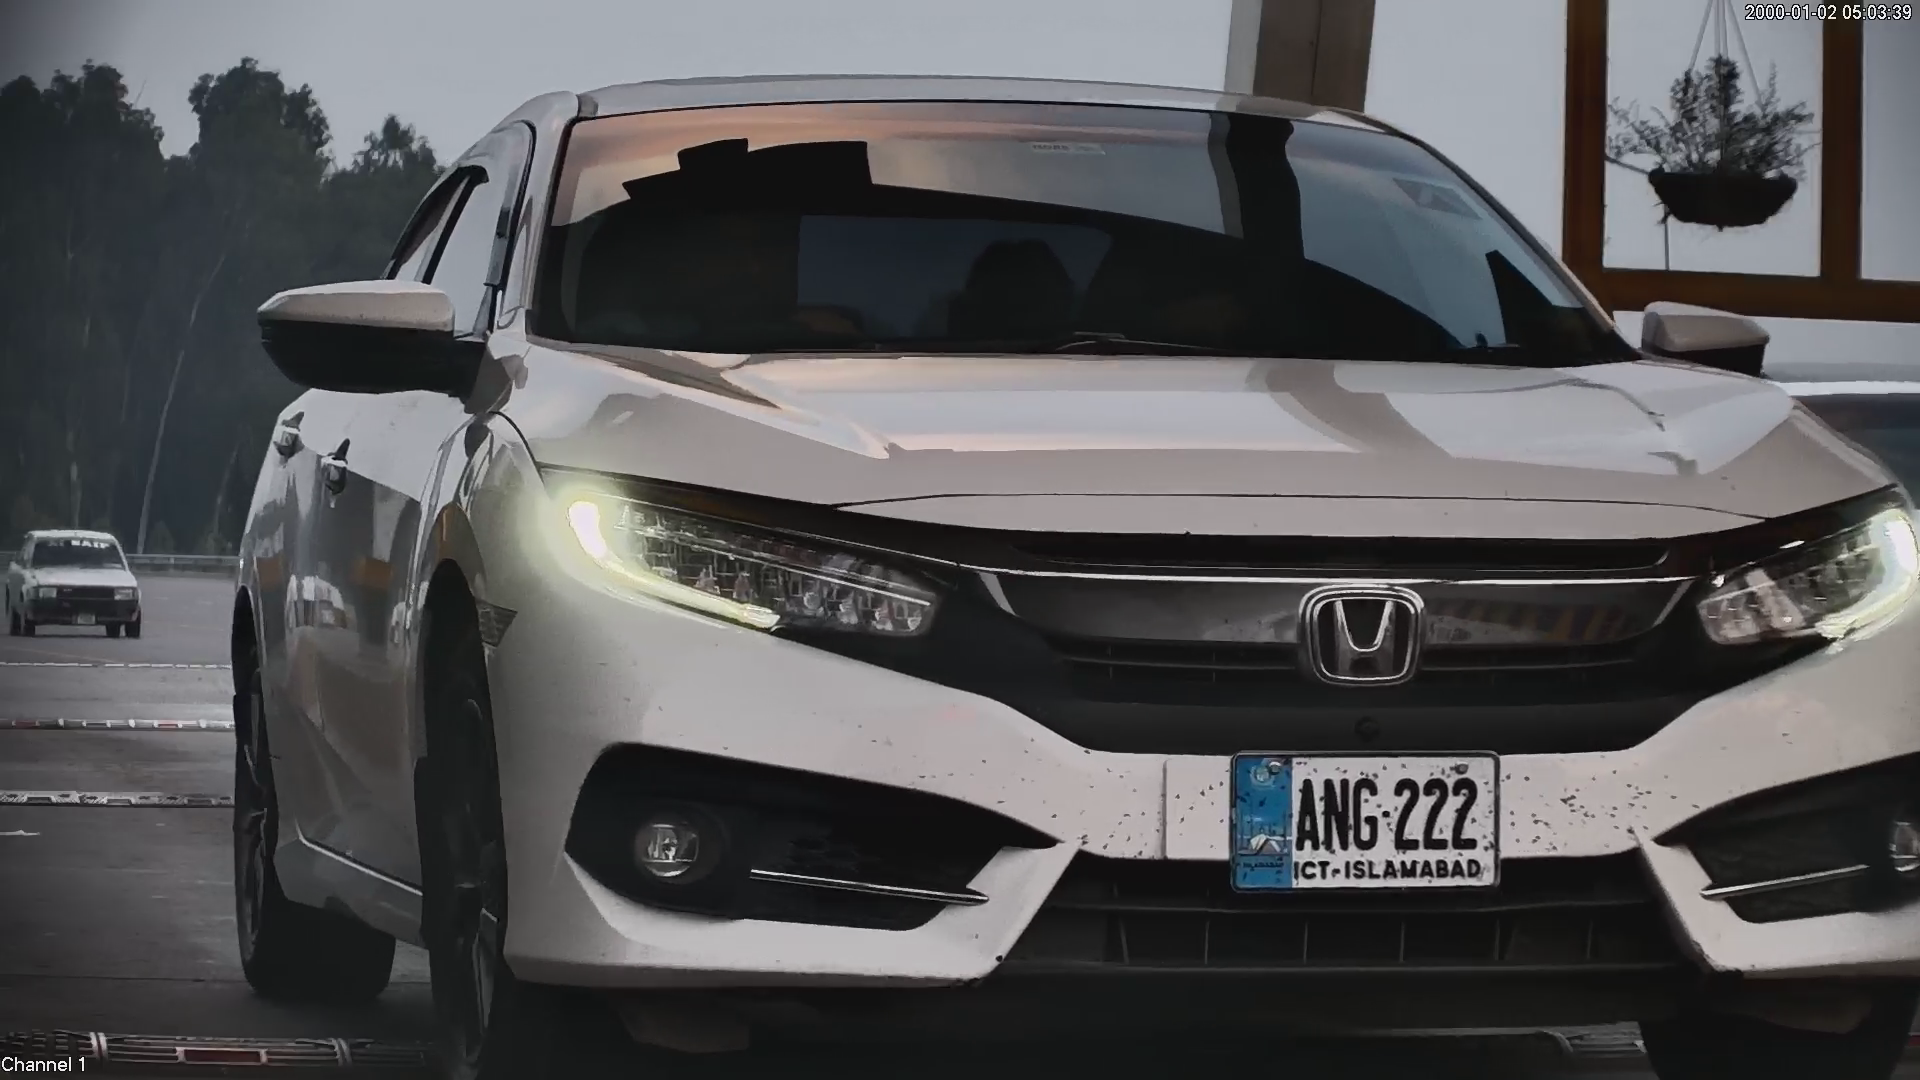Number_Plate: (1224, 737, 1510, 904)
